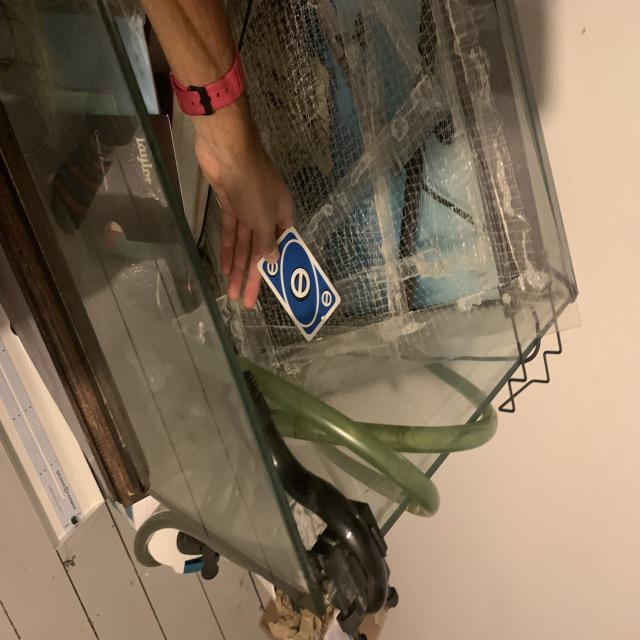lblueskip-20: (318, 287, 336, 310)
